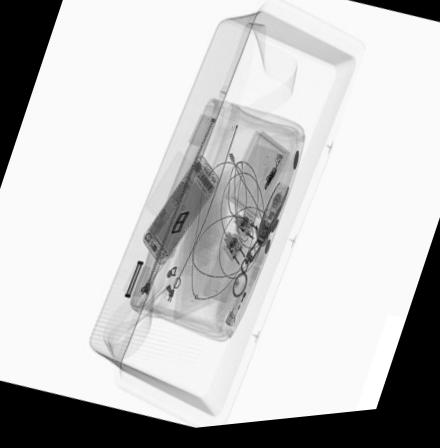Lighter: (223, 275, 255, 331)
